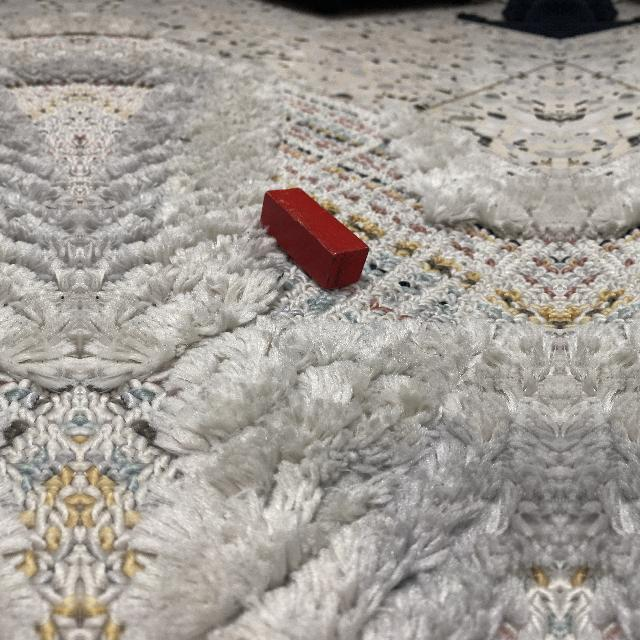red block: (260, 188, 370, 294)
